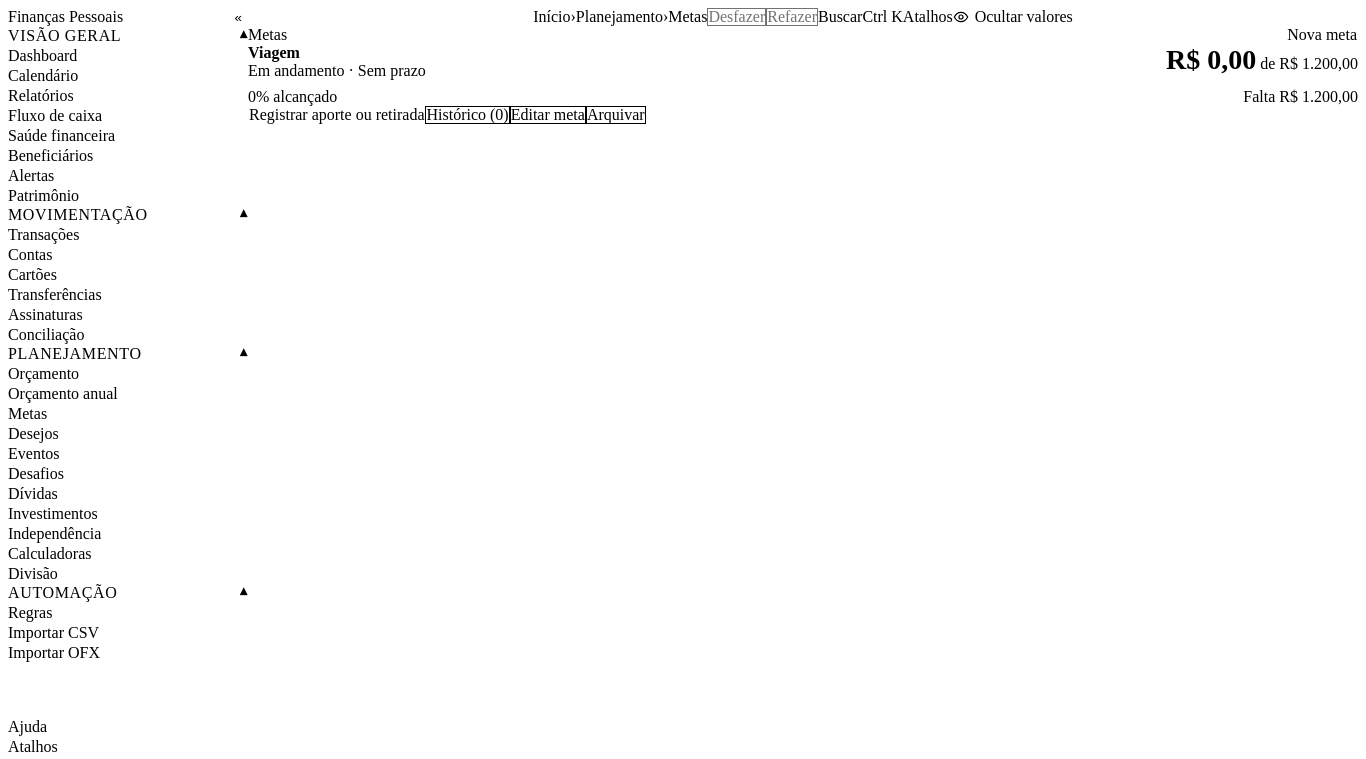
Test case: metas: tela › critério 3: retirada acima do acumulado mostra erro
Click the button with aria-label "Registrar lançamento em Viagem" at [337, 115], box [248,106,426,124]
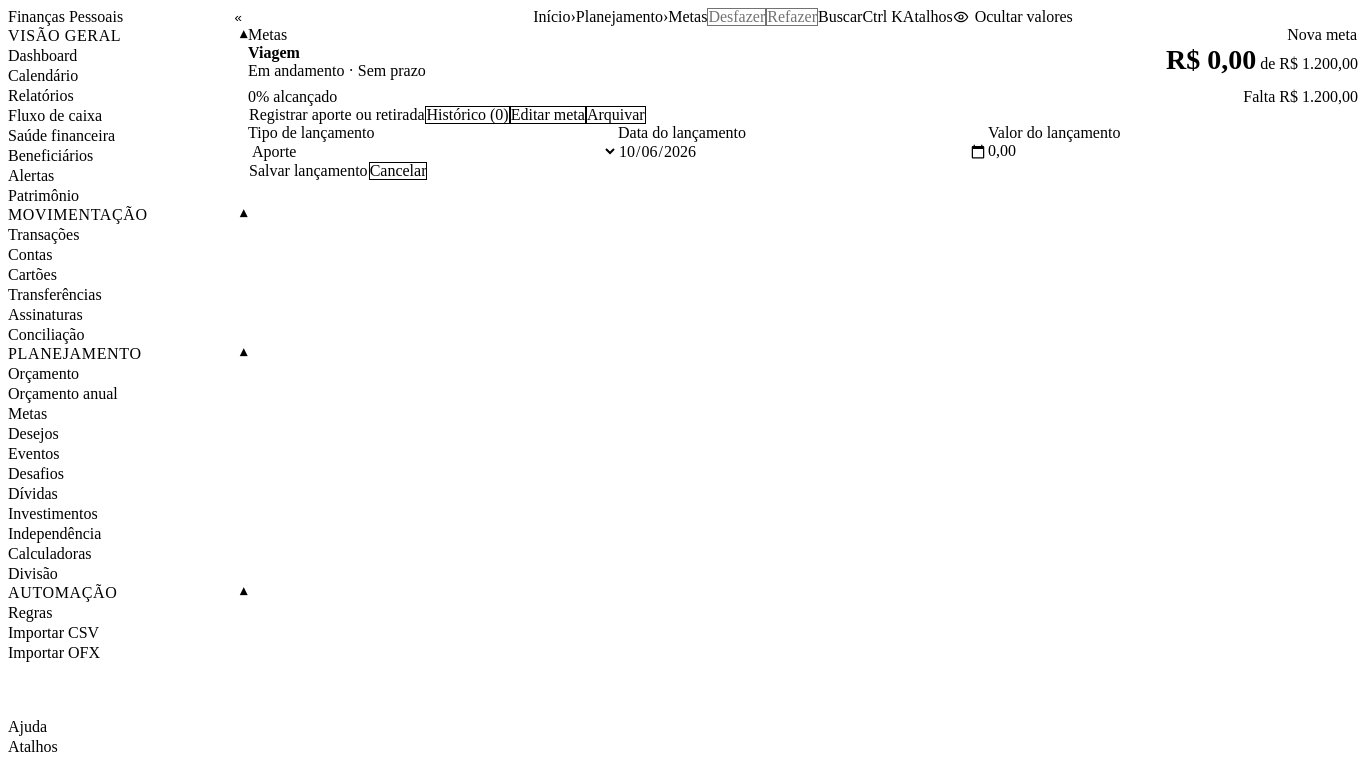
Select "Retirada" in the dropdown labelled "Tipo de lançamento" at [433, 152], box [248,142,618,161]
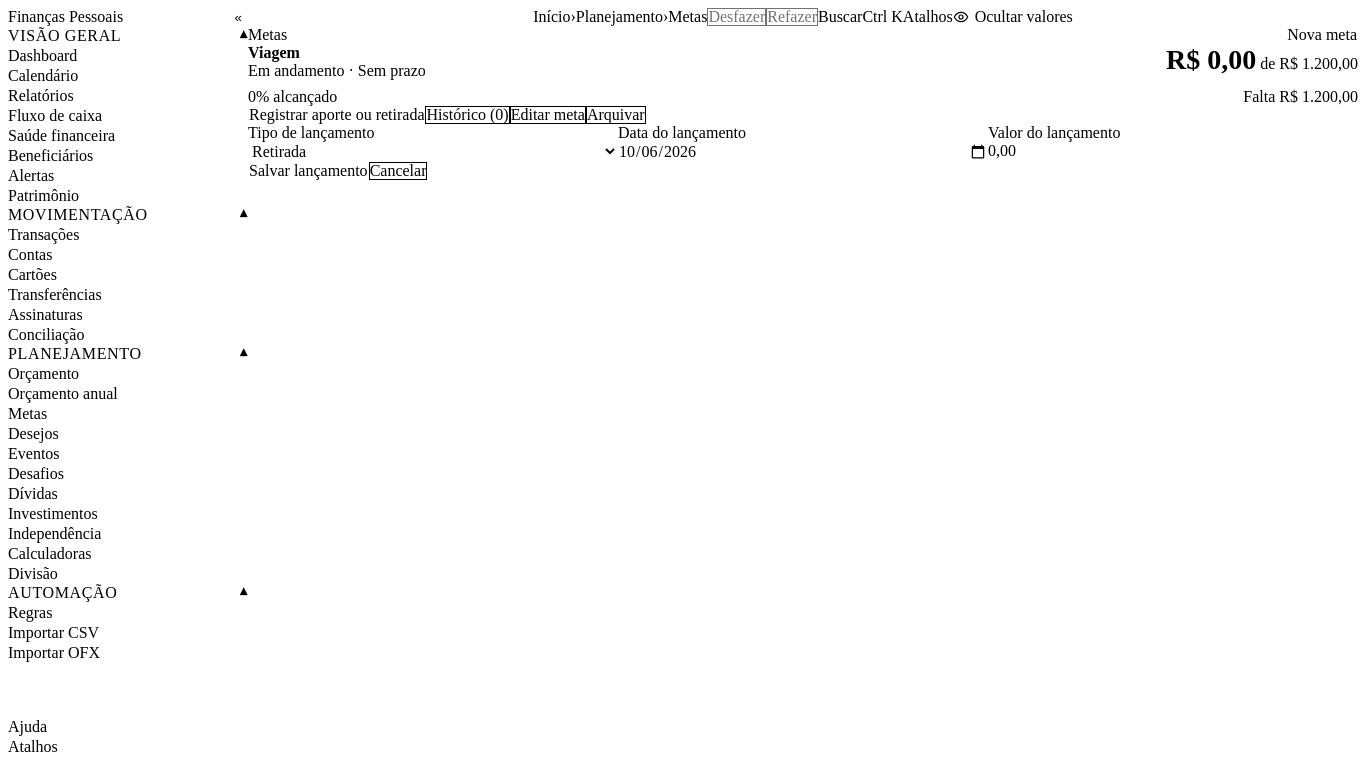
Type "10" into the field labelled "Valor do lançamento" at [1173, 151], box [988,142,1358,160]
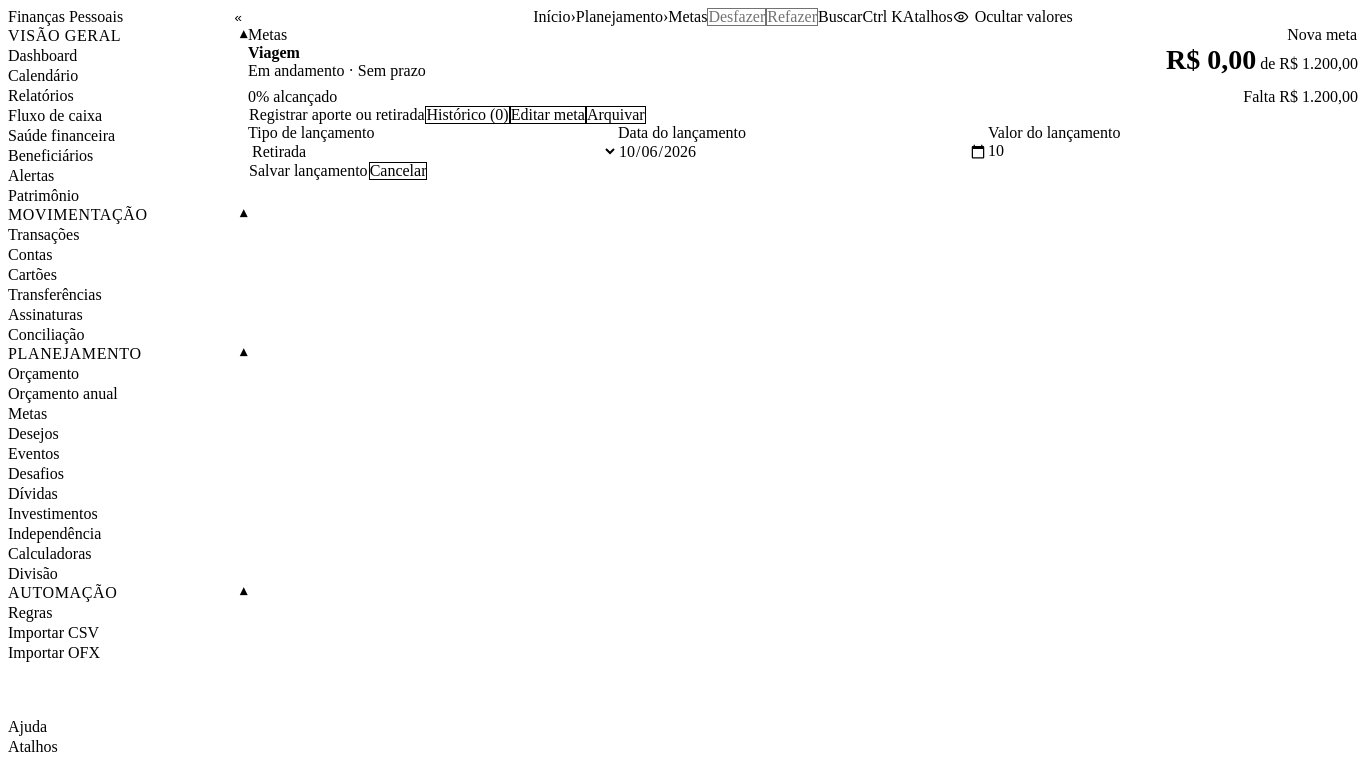
Click the button "Salvar lançamento" at [308, 171], box [248,162,369,180]
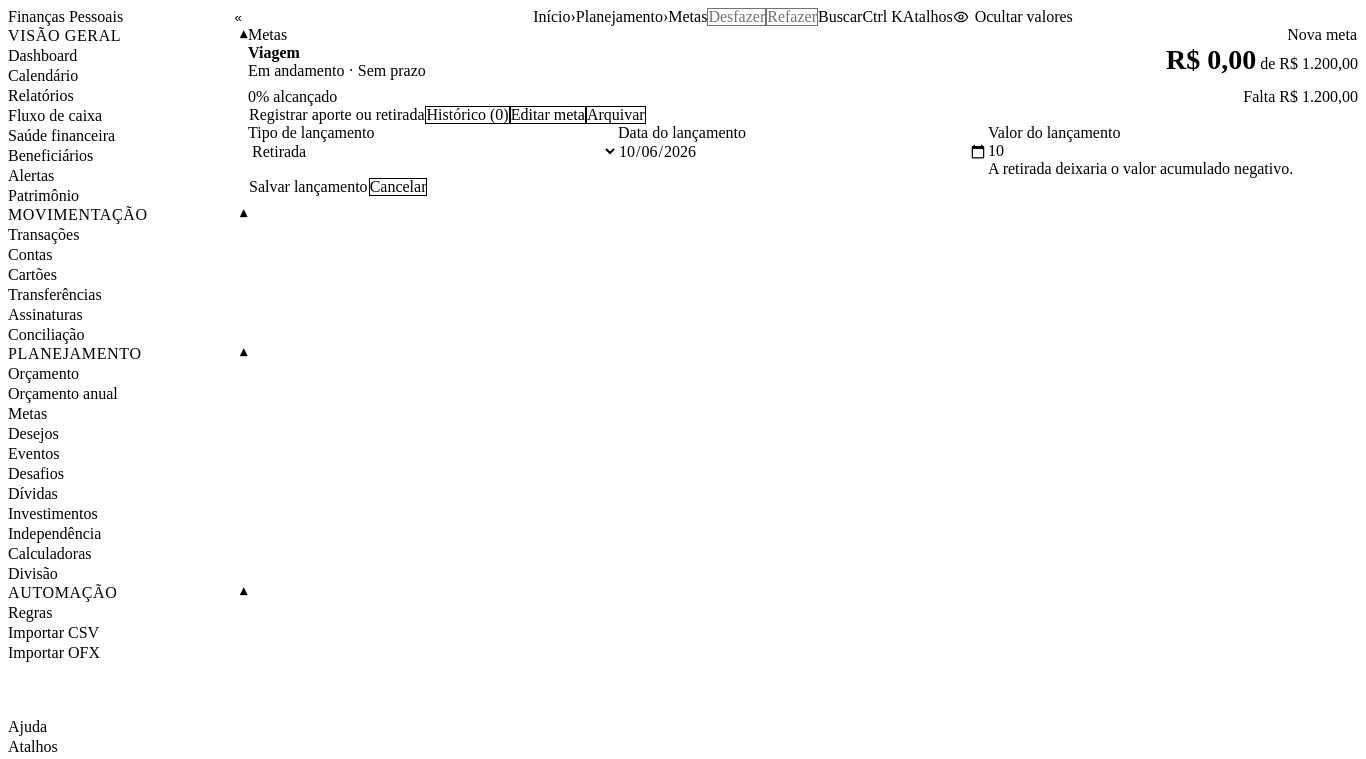
Expected: the message shows "negativo", [988,160,1293,177]
